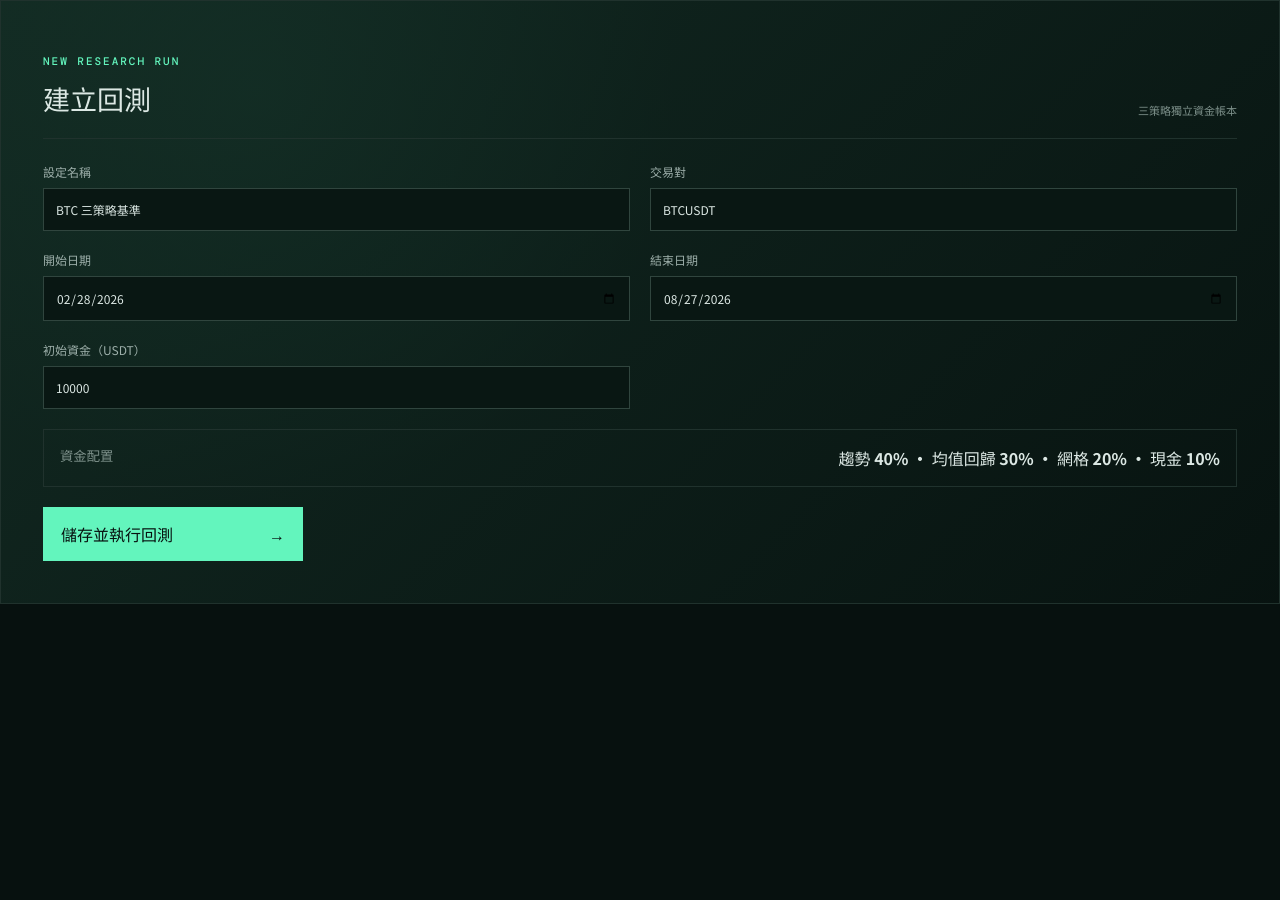
creates a validated configuration and submits its backtest
Replace the text in the field labelled "設定名稱" with "BTC baseline" at (336, 210), box [43, 188, 630, 231]
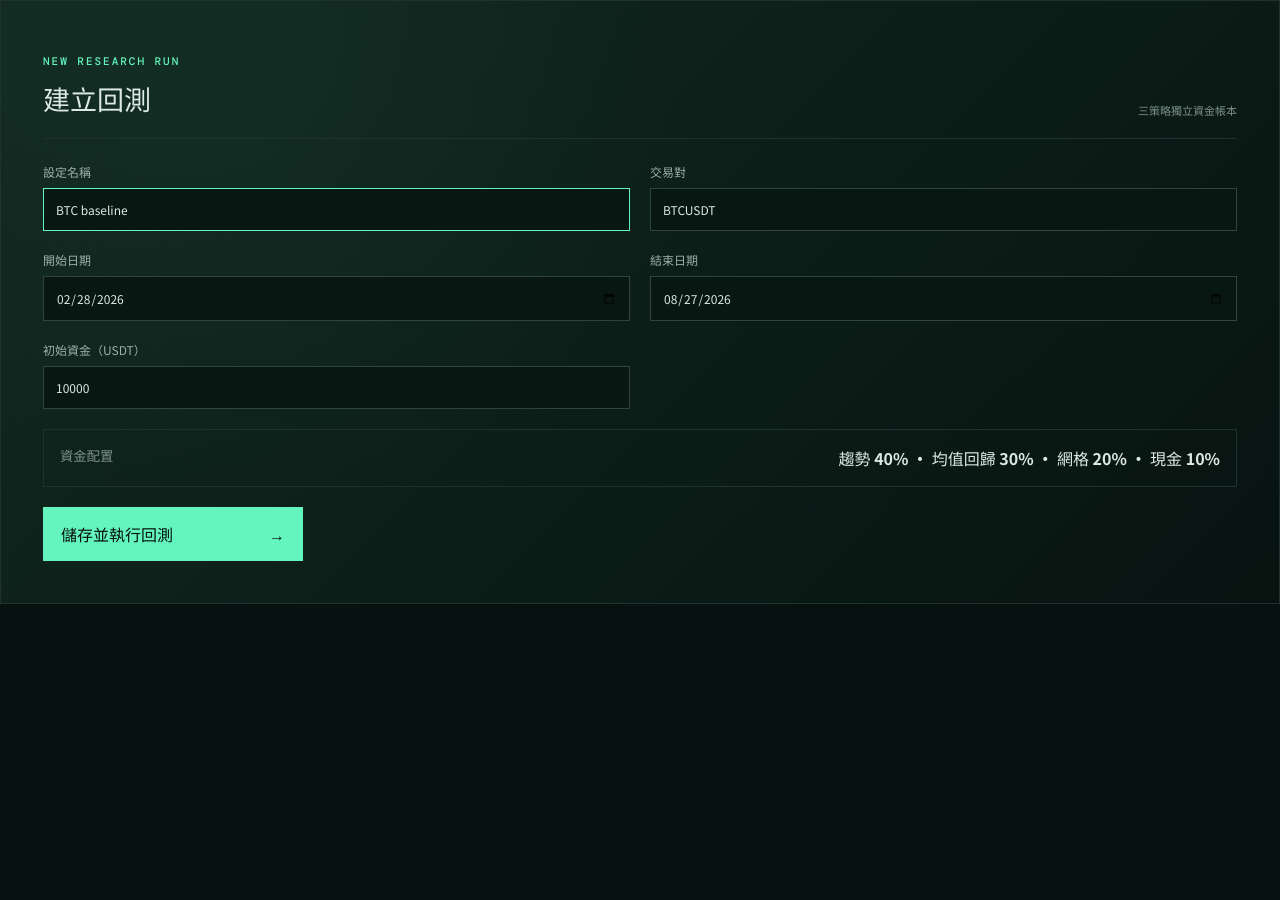
Click the button "儲存並執行回測 →" at (173, 534), box [43, 507, 303, 561]
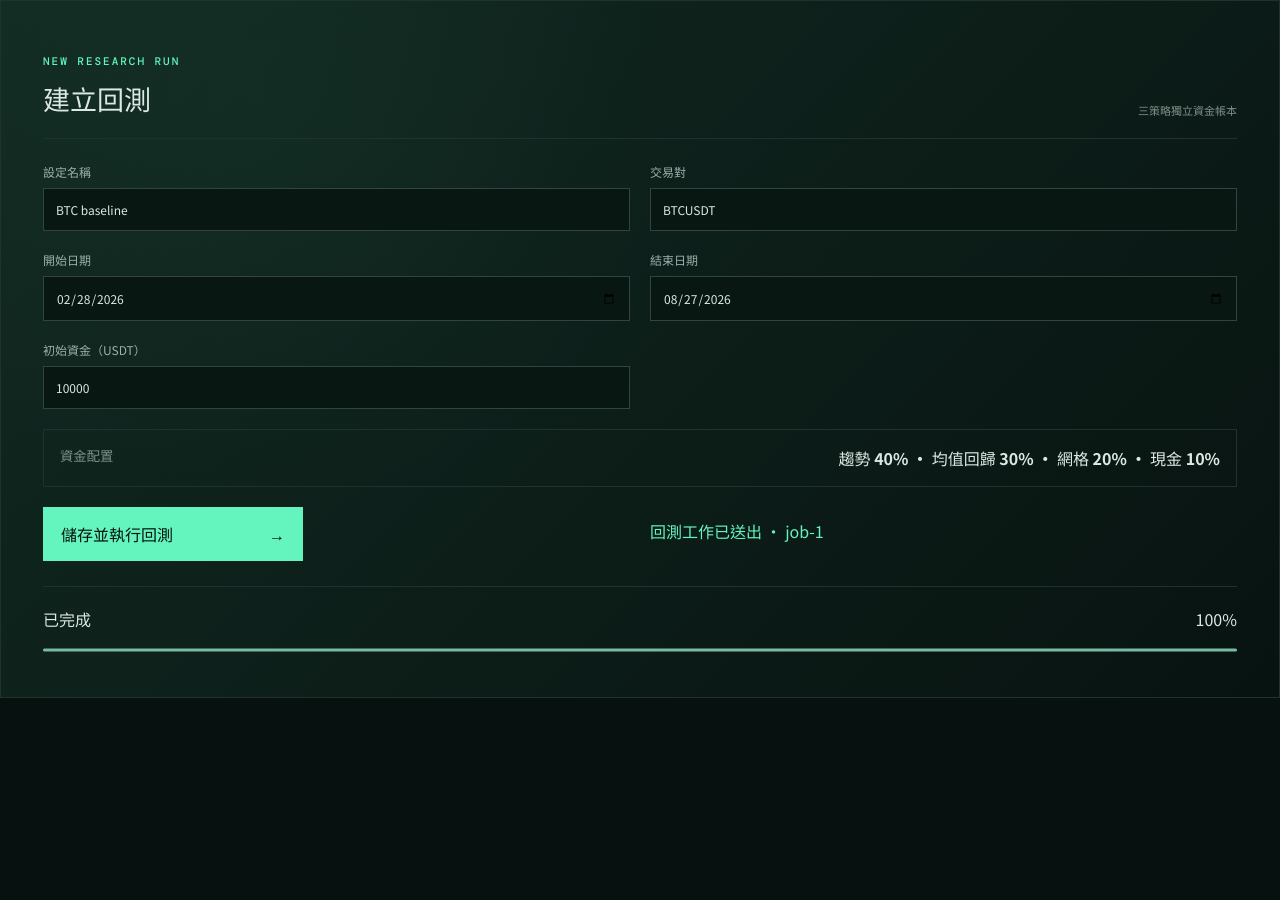
Expected: the text "回測工作已送出 · job-1" is shown, [650, 519, 824, 543]
